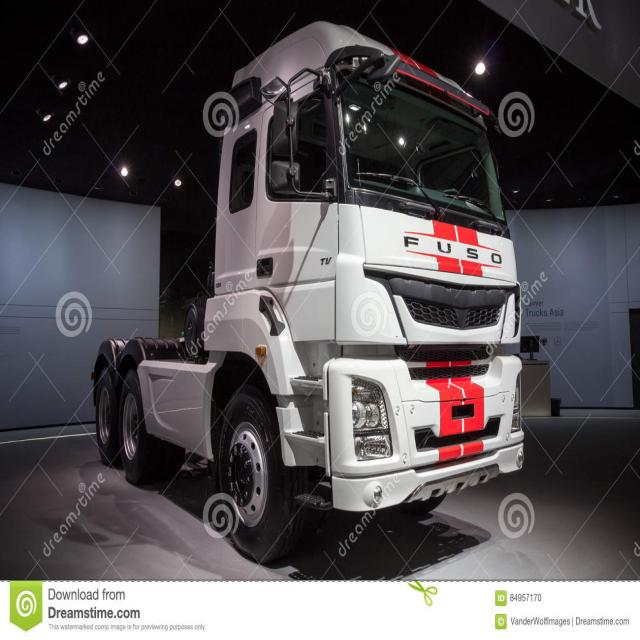truck: (90, 16, 521, 558)
